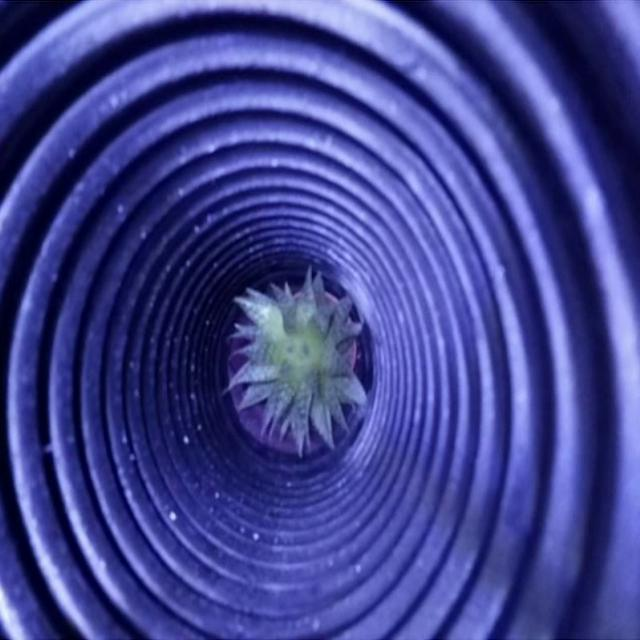leaf: (236, 281, 365, 449)
